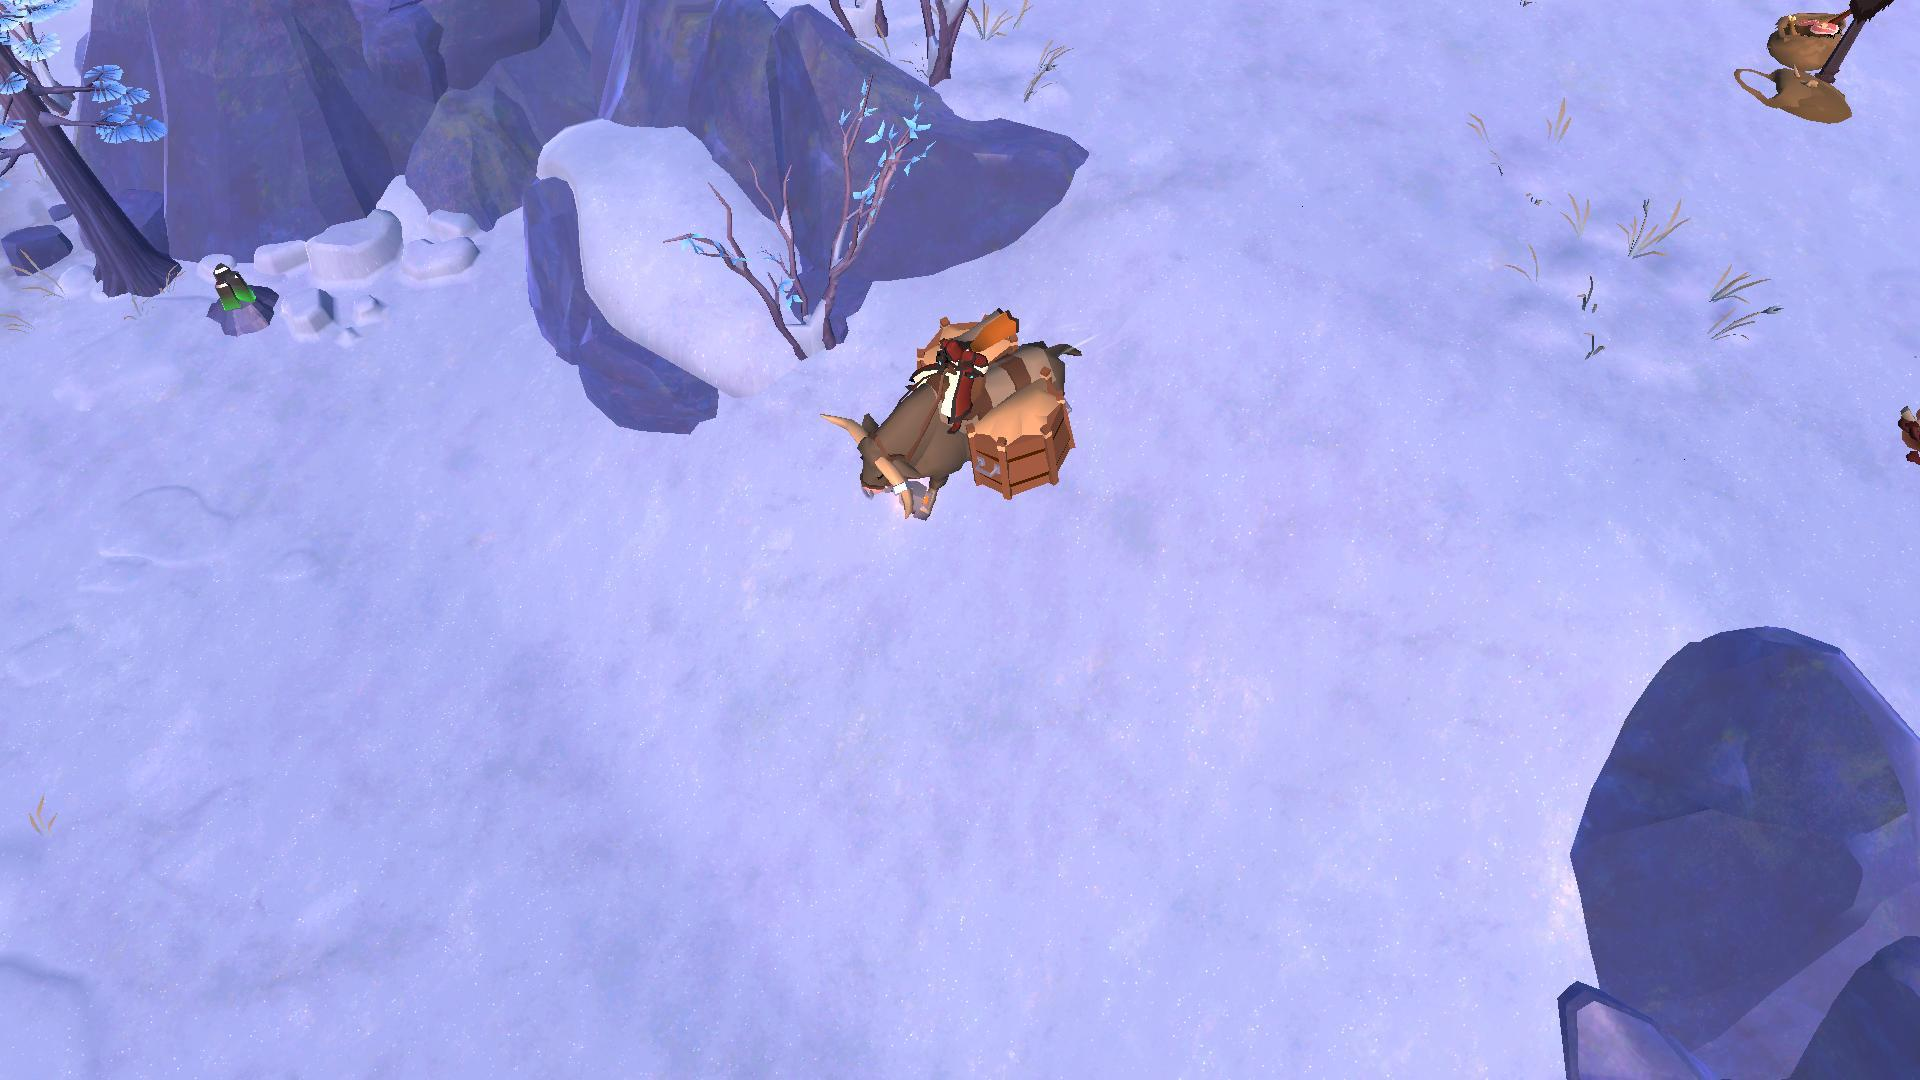ore_t3: (200, 257, 258, 316)
